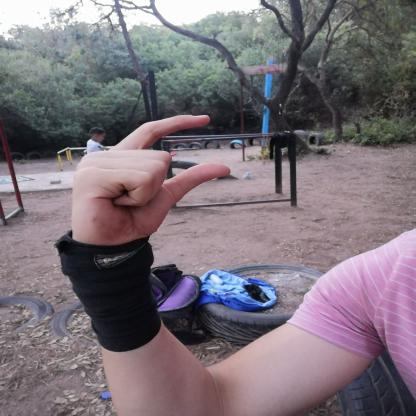DELL: (48, 105, 245, 260)
